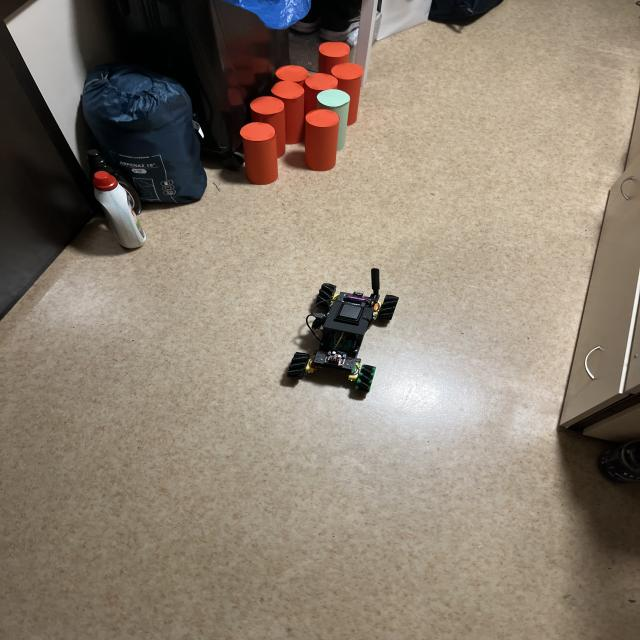robot: (287, 268, 399, 392)
